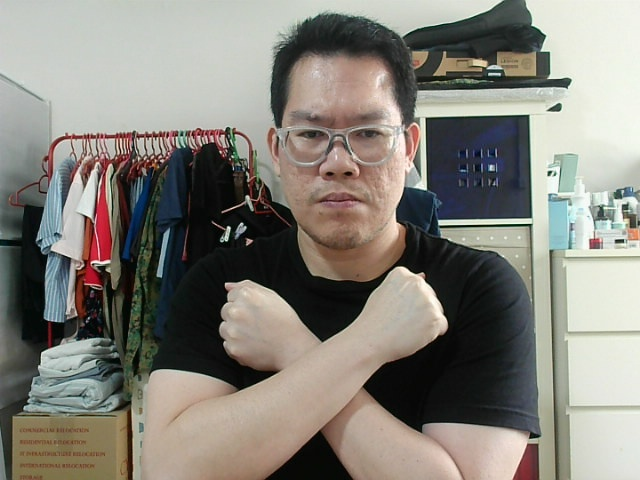love: (370, 272, 445, 336)
